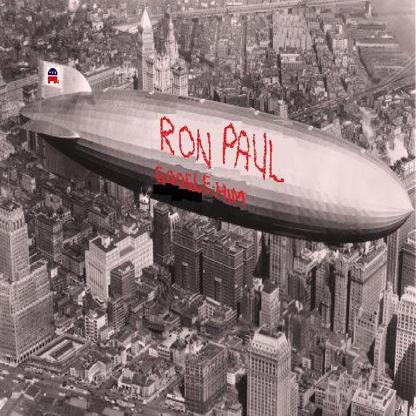Airship: (22, 59, 416, 244)
